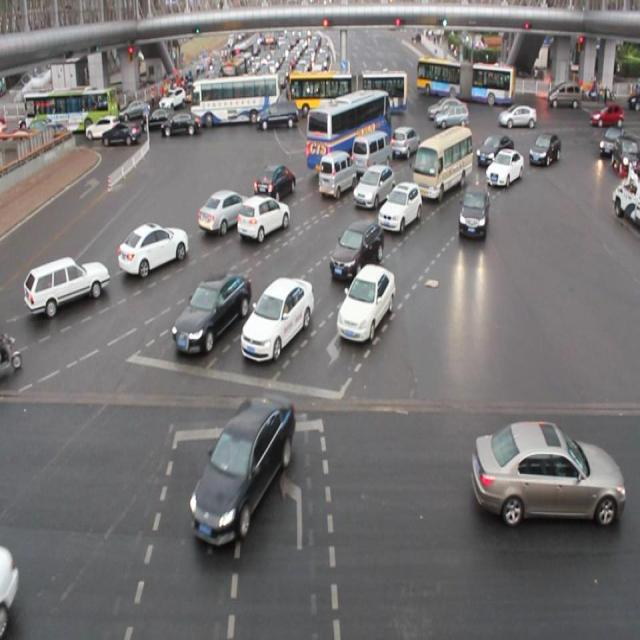car: (190, 394, 297, 551), (470, 414, 620, 524), (241, 272, 314, 368), (173, 274, 253, 358), (23, 254, 109, 318), (337, 266, 394, 348), (117, 221, 188, 277), (328, 223, 383, 280), (196, 186, 254, 235), (238, 190, 289, 243), (379, 182, 421, 232), (456, 180, 486, 238), (254, 163, 296, 203), (354, 164, 393, 206), (484, 148, 523, 189), (476, 134, 514, 166), (528, 134, 561, 166), (390, 125, 419, 161), (439, 126, 468, 161)
truck: (414, 128, 473, 200), (351, 130, 394, 178), (317, 151, 356, 196)
van: (306, 90, 392, 174)
